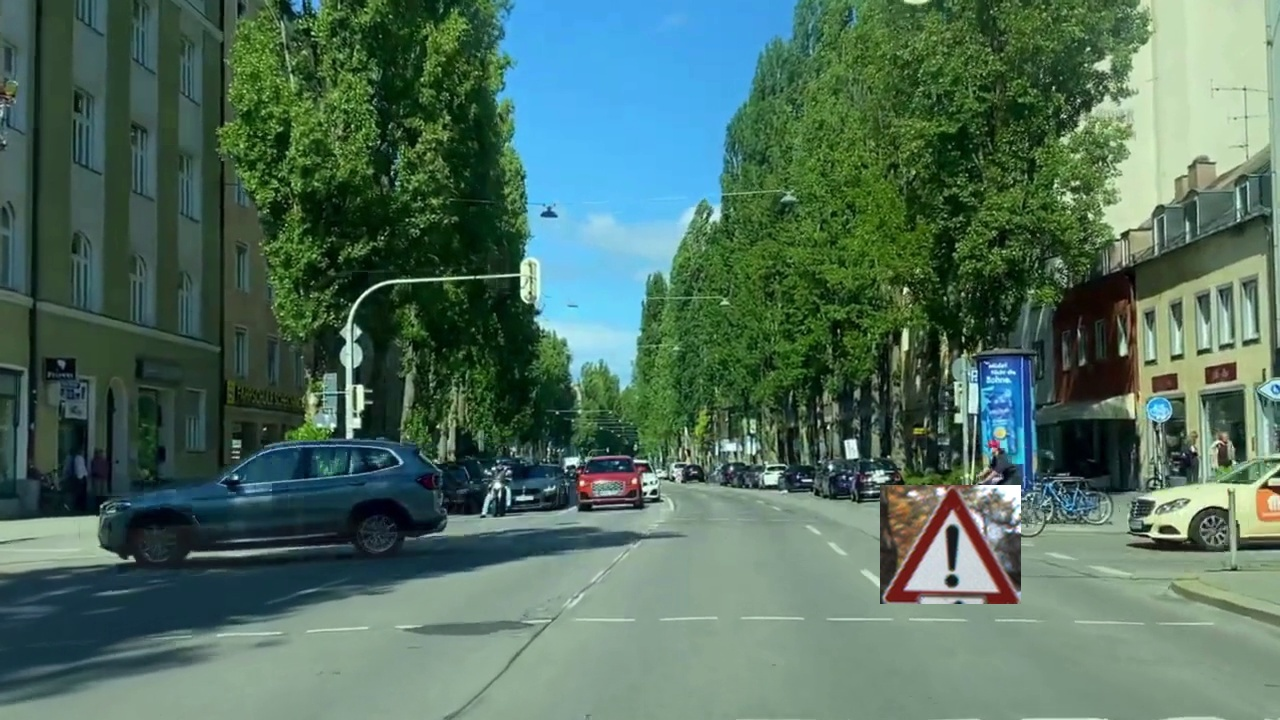Caution: (880, 485, 1021, 604)
